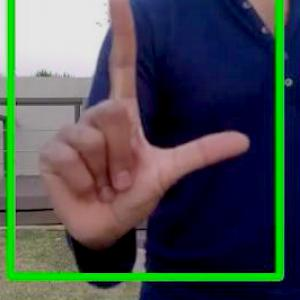land_hand: (28, 0, 262, 259)
